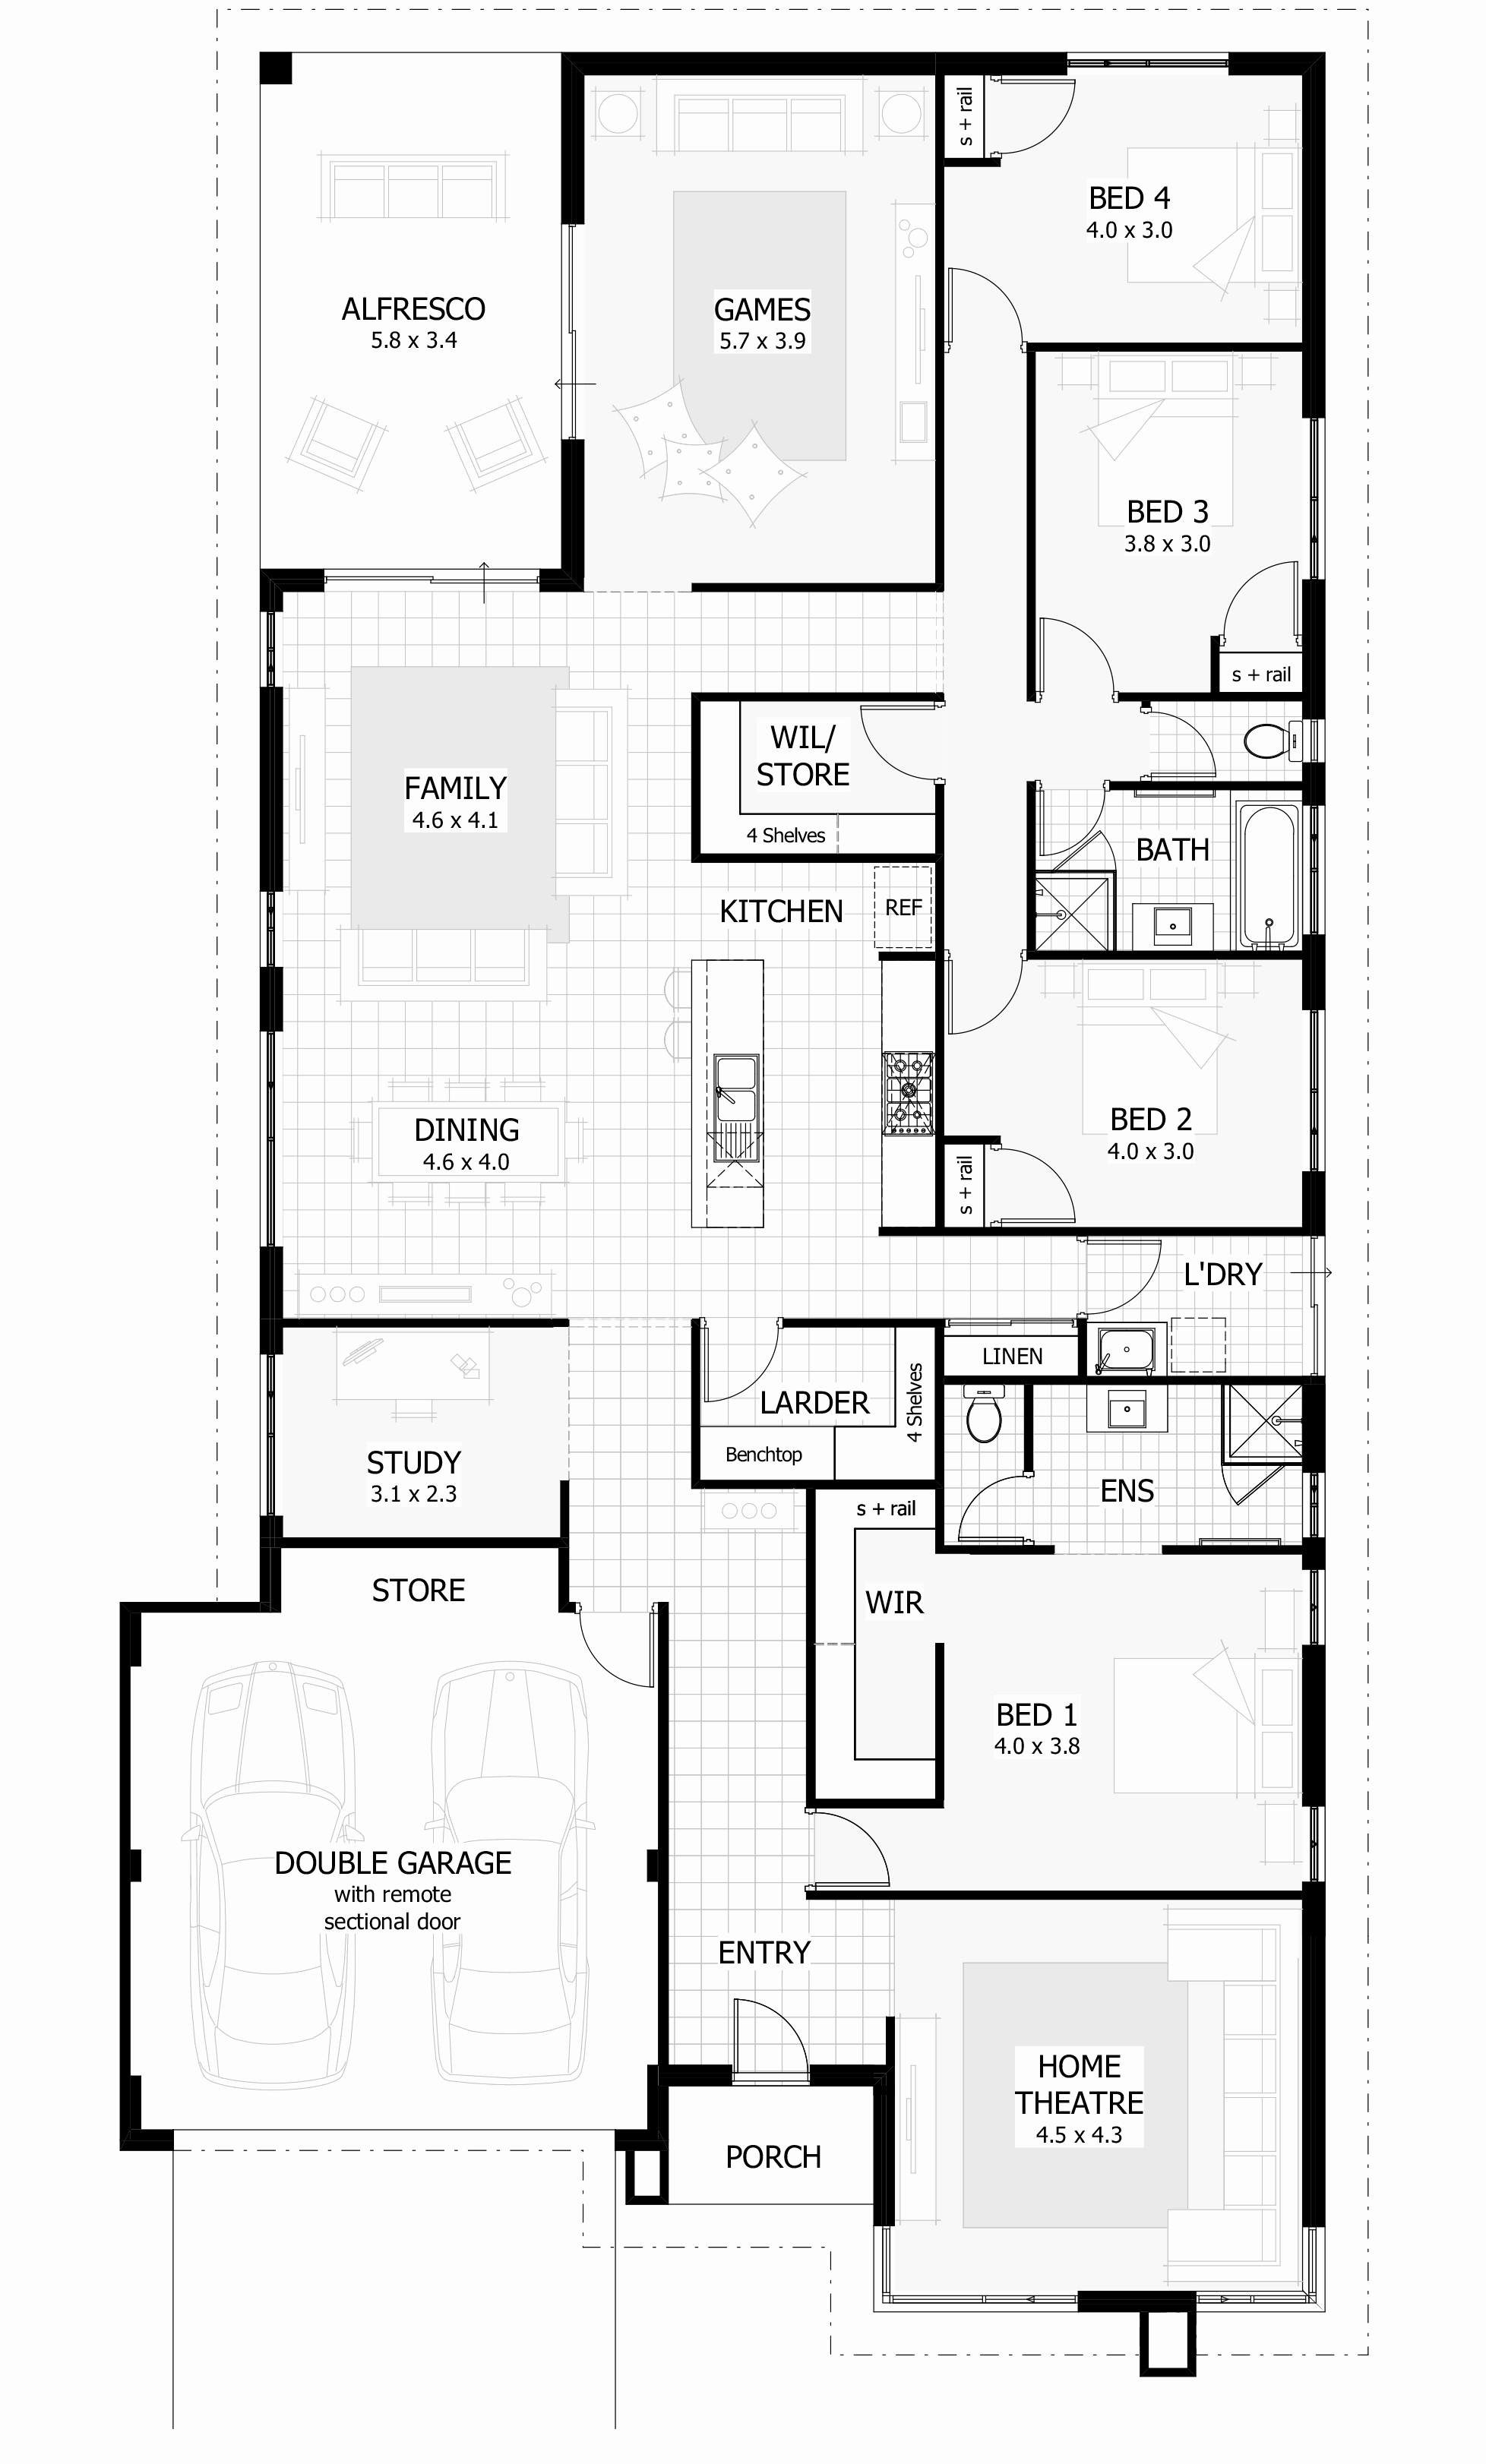door: (817, 1808, 901, 1890), (945, 260, 1026, 341), (1009, 1135, 1079, 1227), (1004, 76, 1081, 157), (1037, 794, 1118, 869), (1037, 612, 1116, 686), (1092, 1237, 1164, 1318), (1167, 567, 1255, 632), (945, 961, 1019, 1038), (857, 702, 930, 780), (954, 1468, 1023, 1544), (731, 1996, 808, 2063), (583, 1623, 658, 1688), (704, 1327, 768, 1404), (1153, 708, 1218, 778), (1215, 1466, 1284, 1510)
